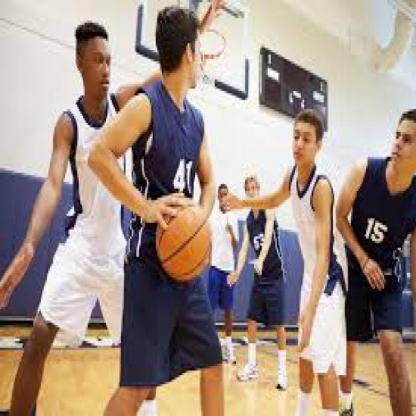basketball: (154, 198, 214, 284)
rim: (198, 27, 226, 61)
